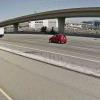Bridge: (4, 4, 98, 29)
